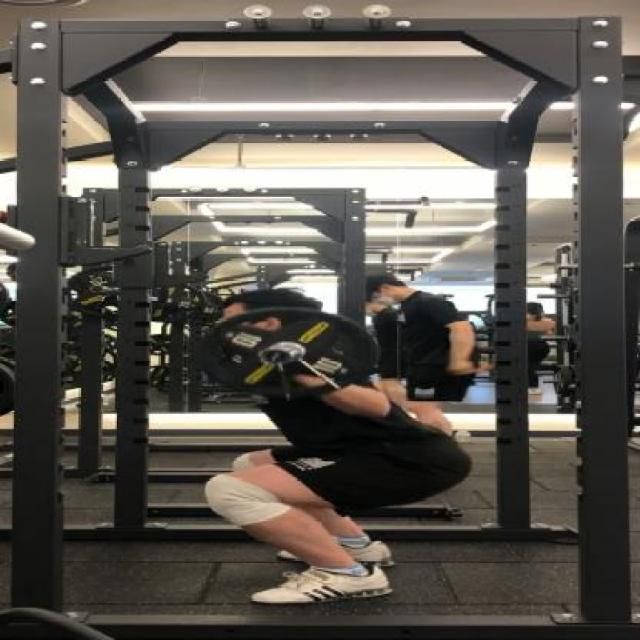Barbell: (252, 344, 302, 366)
